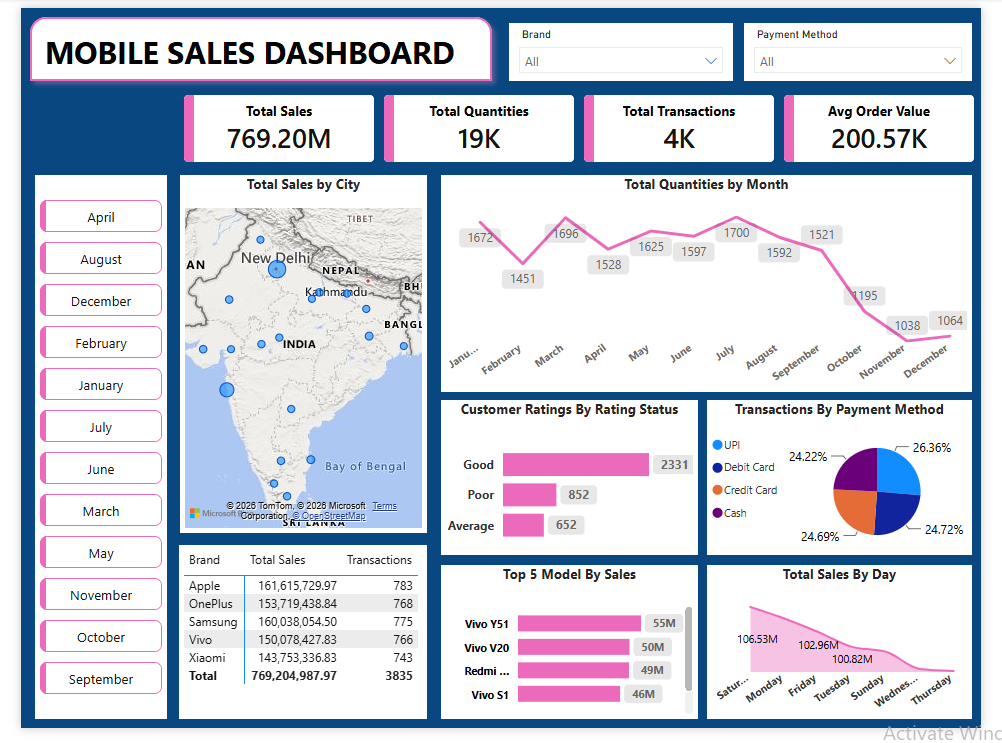

Layout of this report page (visuals, bound fields, positions):
{"tool":"powerbi","page":{"name":"Page 1","canvas":[960,720],"ordinal":0},"visuals":[{"type":"cardVisual","fields":{"Data":["Table.Total Revenue","Table.Total Sold Quantities","Table.Total Transactions","Table.Avg Order Value"]},"box":[158.1,81.9,801.9,77.3],"z":0},{"type":"shape","box":[0,0,480,81.9],"z":1000},{"type":"advancedSlicerVisual","fields":{"Values":["Date Table.Month Name"]},"box":[13.6,167.2,131.9,543.7],"z":2000},{"type":"map","title":"Total Sales by City","fields":{"Category":["Sheet1.City"],"Size":["Table.Total Revenue"]},"box":[158.5,167.1,247.3,358.1],"z":3000},{"type":"pivotTable","fields":{"Rows":["Sheet1.Brand"],"Values":["Table.Total Revenue","Table.Total Transactions"]},"box":[158.1,536.9,248,174],"z":4000},{"type":"lineChart","title":"Total Quantities by Month","fields":{"Y":["Sum(Sheet1.Units Sold)"],"Category":["Date Table.Date.Variation.Date Hierarchy.Month"]},"box":[419.7,167.2,531.2,217.3],"z":5000},{"type":"clusteredBarChart","title":"Customer Ratings By Rating Status","fields":{"Category":["Sheet1.Rating Status"],"Y":["CountNonNull(Sheet1.Customer Ratings)"]},"box":[419.7,392.4,257.1,154.7],"z":6000},{"type":"pieChart","title":"Transactions By Payment Method","fields":{"Category":["Sheet1.Payment Method"],"Y":["Table.Total Transactions"]},"box":[685.9,392.4,265,154.7],"z":7000},{"type":"clusteredBarChart","title":"Top 5 Model By Sales","fields":{"Category":["Sheet1.Mobile Model"],"Y":["Table.Total Revenue"]},"box":[419.7,557.3,257.1,153.6],"z":8000},{"type":"stackedAreaChart","title":"Total Sales By Day","fields":{"Category":["Date Table.WeekDay Name"],"Y":["Table.Total Revenue"]},"box":[685.9,557.3,265,153.6],"z":9000},{"type":"slicer","fields":{"Values":["Sheet1.Brand"]},"box":[488,14.8,224.1,58],"z":10000},{"type":"slicer","fields":{"Values":["Sheet1.Payment Method"]},"box":[723.4,14.8,227.5,58],"z":11000}]}

Visuals, with their boxes in screenshot pixels (x1, y1, x2, y2), scaled from the page's 960x720 canvas onto the 1002x743 screenshot:
cardVisual - Table.Total Revenue x Table.Total Sold Quantities: bbox=[165, 85, 1001, 164]
shape: bbox=[0, 0, 501, 85]
advancedSlicerVisual - Date Table.Month Name: bbox=[14, 173, 152, 734]
"Total Sales by City" map: bbox=[165, 172, 424, 542]
pivotTable - Sheet1.Brand x Table.Total Revenue: bbox=[165, 554, 424, 734]
"Total Quantities by Month" lineChart: bbox=[438, 173, 993, 397]
"Customer Ratings By Rating Status" clusteredBarChart: bbox=[438, 405, 706, 565]
"Transactions By Payment Method" pieChart: bbox=[716, 405, 993, 565]
"Top 5 Model By Sales" clusteredBarChart: bbox=[438, 575, 706, 734]
"Total Sales By Day" stackedAreaChart: bbox=[716, 575, 993, 734]
slicer - Sheet1.Brand: bbox=[509, 15, 743, 75]
slicer - Sheet1.Payment Method: bbox=[755, 15, 993, 75]
